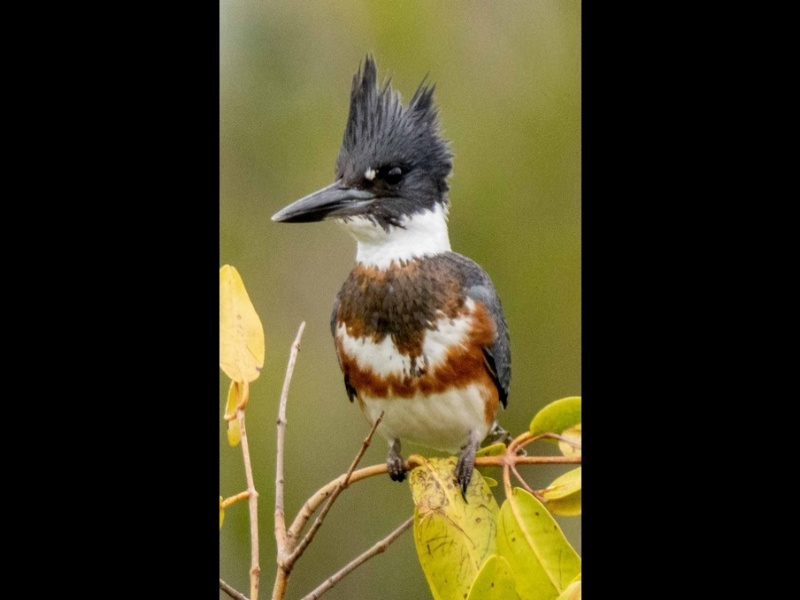kingfisher: (271, 54, 513, 491)
